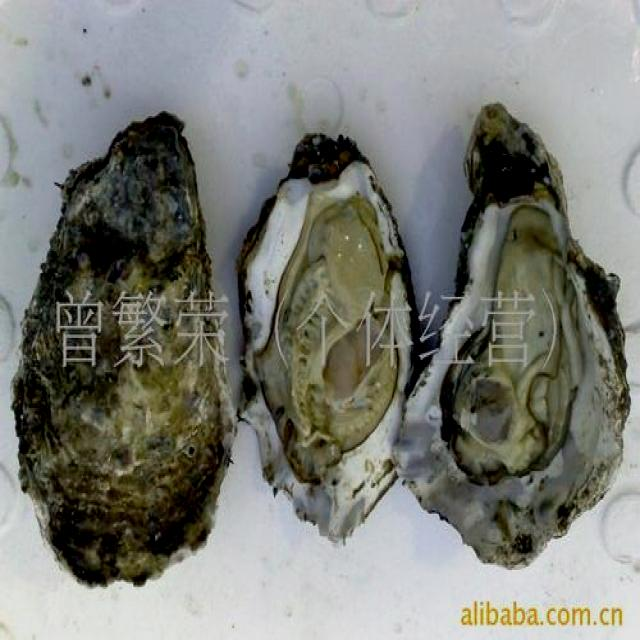Oyster-Closed: (12, 112, 236, 590)
Oyster-Open: (396, 102, 632, 570), (236, 133, 420, 545)
